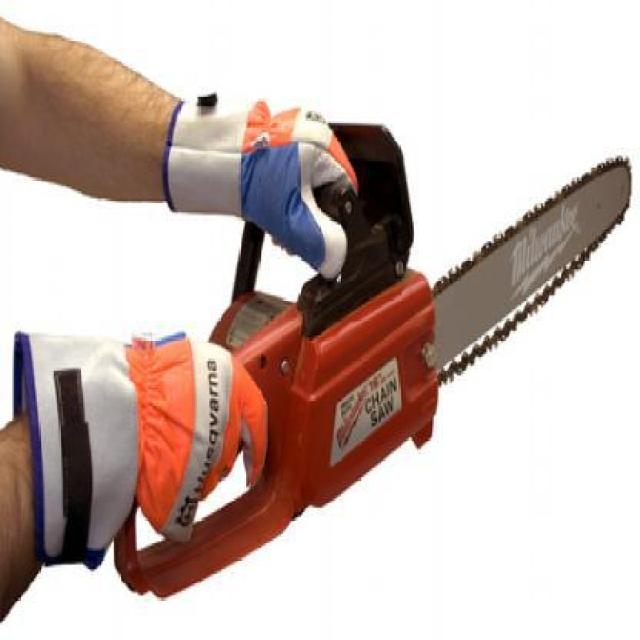Chainsaw: (109, 121, 631, 602)
